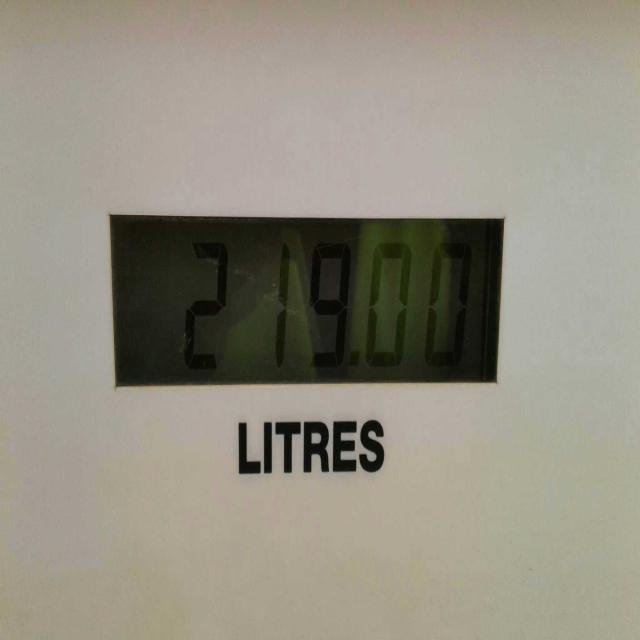.: (347, 344, 362, 378)
0: (424, 226, 486, 370), (364, 240, 416, 374)
1: (256, 236, 302, 378)
2: (180, 239, 239, 384)
9: (296, 240, 356, 380)
